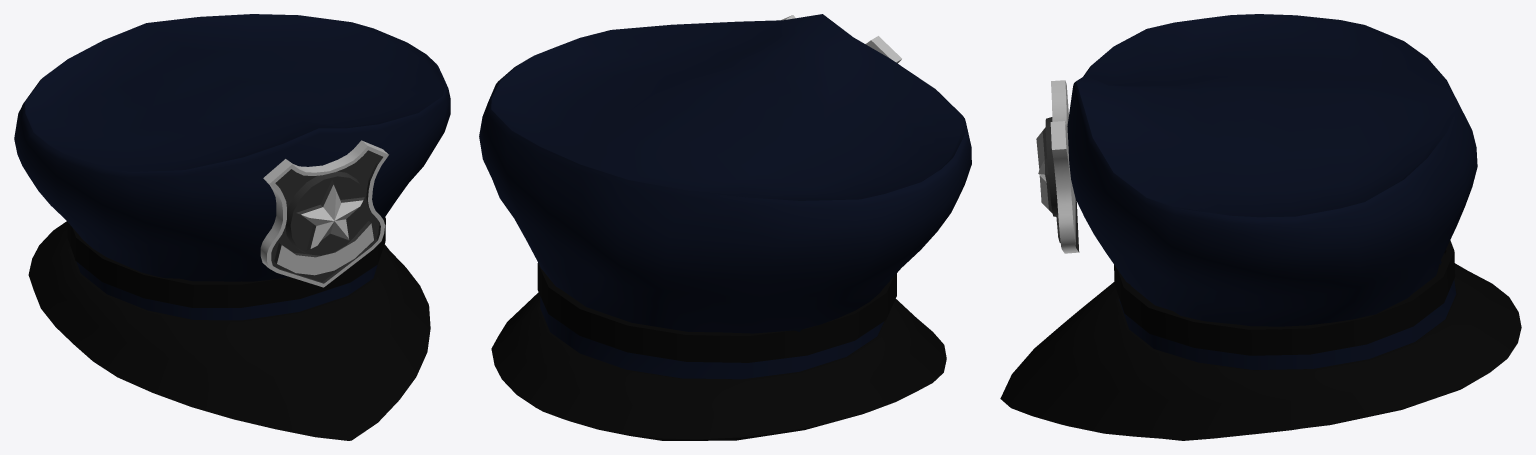
Rendered from PoliceCap.fbx.
The picture shows the model from 3 angles, left to right: view 1: azimuth 30°, elevation 25°; view 2: azimuth 150°, elevation 25°; view 3: azimuth 270°, elevation 25°; orthographic projection. The views are drawn at different scales.
Parts seen in each view (by area): view 1: PoliceCap; view 2: PoliceCap; view 3: PoliceCap.
Part boxes in pixels (left/top/right/bottom): PoliceCap: left=14, top=14, right=450, bottom=440; PoliceCap: left=479, top=14, right=971, bottom=440; PoliceCap: left=1000, top=14, right=1521, bottom=440.
Size of the model in its own units: 50.65 by 36.1 by 53.1.
